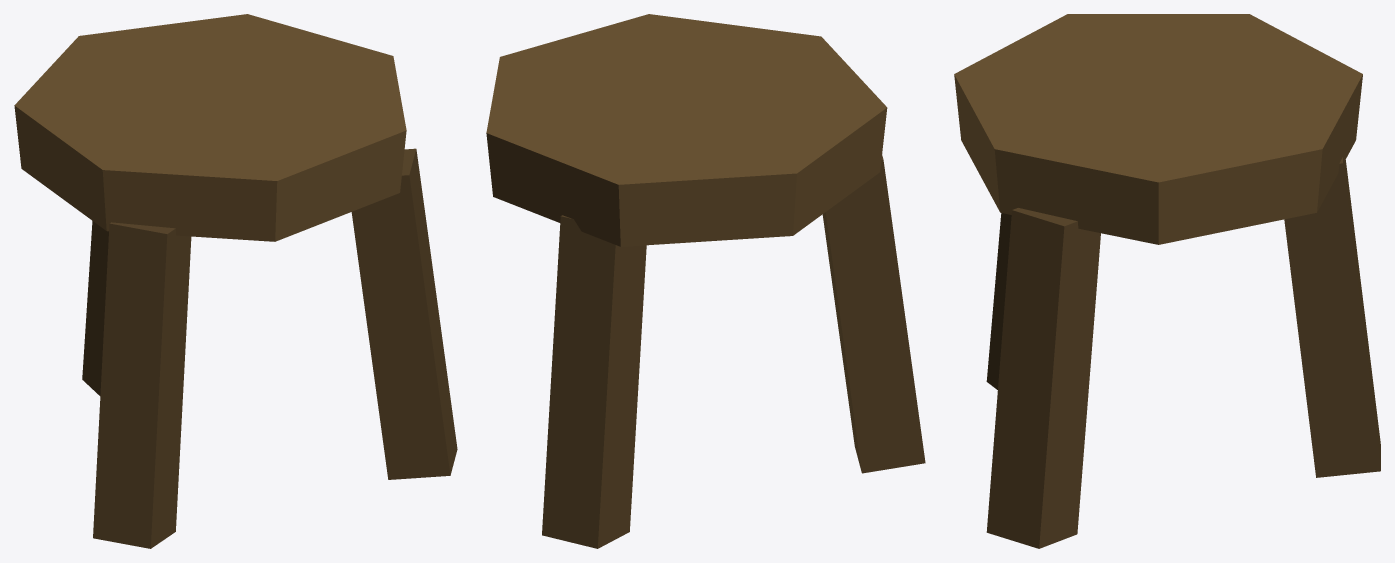
The model's file is stool.glb.
3 renders of one model, left to right at view 1: azimuth 30°, elevation 25°; view 2: azimuth 150°, elevation 25°; view 3: azimuth 270°, elevation 25°, orthographic. The views are drawn at different scales.
Visible parts, largest first — view 1: stool; view 2: stool; view 3: stool.
Part boxes in pixels (x1,y1,x2,y2): stool: (14,14,457,548); stool: (486,14,925,548); stool: (954,14,1380,548).
Bounding box in the file's own units: 0.6003 × 0.5656 × 0.59.
